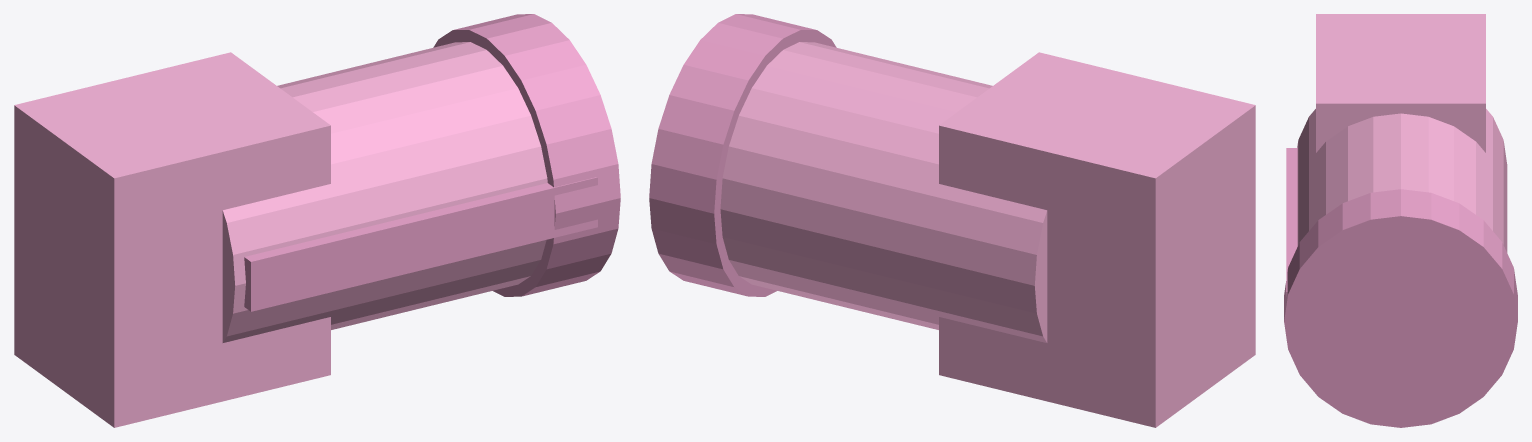
3 renders of one model, left to right at view 1: azimuth 30°, elevation 25°; view 2: azimuth 150°, elevation 25°; view 3: azimuth 270°, elevation 25°, orthographic. The views are drawn at different scales.
Parts seen in each view (by area): view 1: model_5_NOSIMPLIFY; view 2: model_5_NOSIMPLIFY; view 3: model_5_NOSIMPLIFY.
Boxes of the visible parts, bbox=[...] form: model_5_NOSIMPLIFY: bbox=[14, 14, 620, 427]; model_5_NOSIMPLIFY: bbox=[649, 14, 1255, 427]; model_5_NOSIMPLIFY: bbox=[1284, 14, 1517, 427].
Size of the model in its own units: 0.225 by 0.11 by 0.11.
